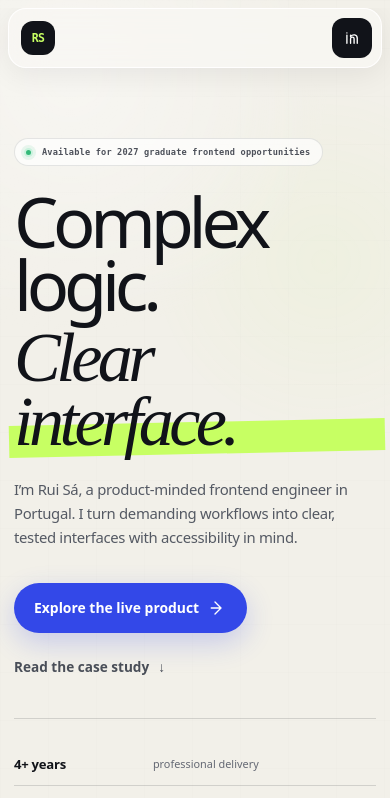
Rui Sá frontend portfolio › keeps the core journey usable on a narrow mobile viewport
Expected: the heading "Complex logic. Clear interface." is shown, 14,173 -> 266,460
Click the button "Explore the live product".
click(131, 608)  # box 14,583 -> 247,633
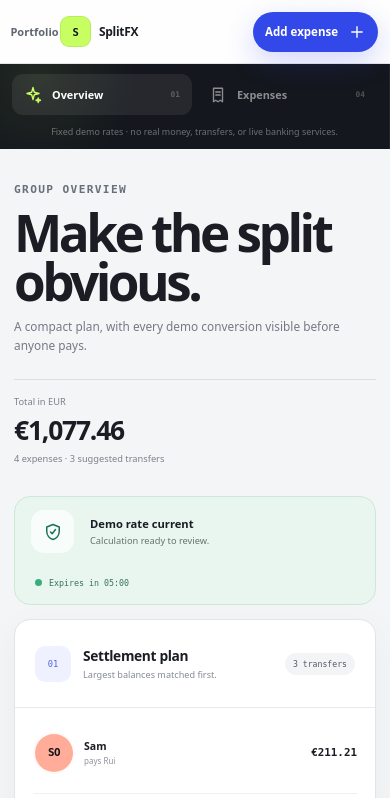
Expected: the heading "Make the split obvious." is shown, 14,208 -> 376,306
Expected: the button "Add expense" is shown, 253,12 -> 378,52
